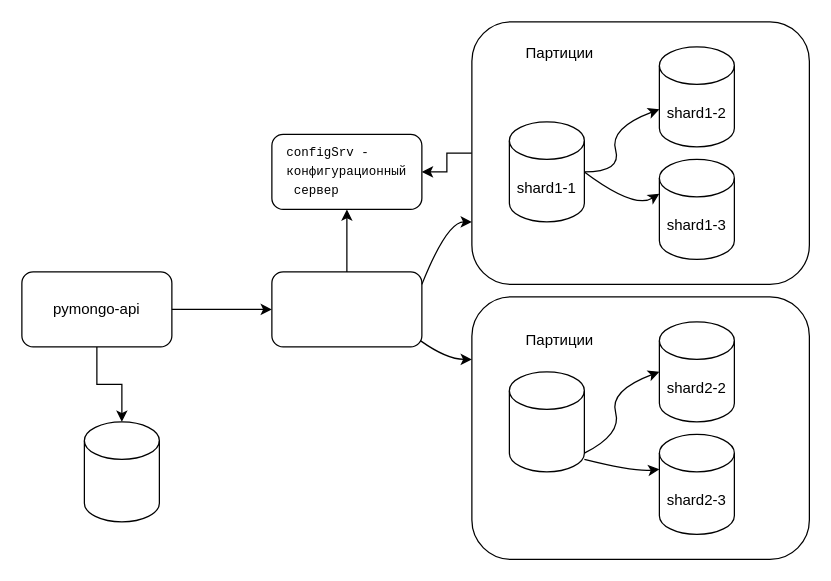
This 831x581 diagram has some shape labels left out. The shapes that lost their labels are listed below. From the top down, each one's centre as x and y in pixels, then its label:
the point at 346,309: mongos_router - роутер
the point at 546,421: shard2-1
the point at 121,471: redis кэш
